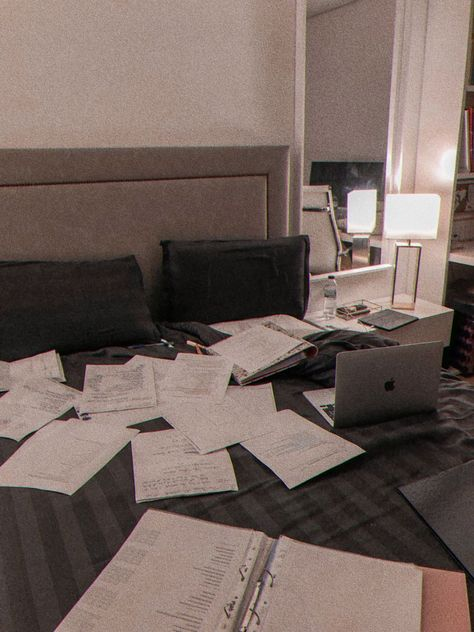not a gesture sign: (94, 185, 358, 546)
